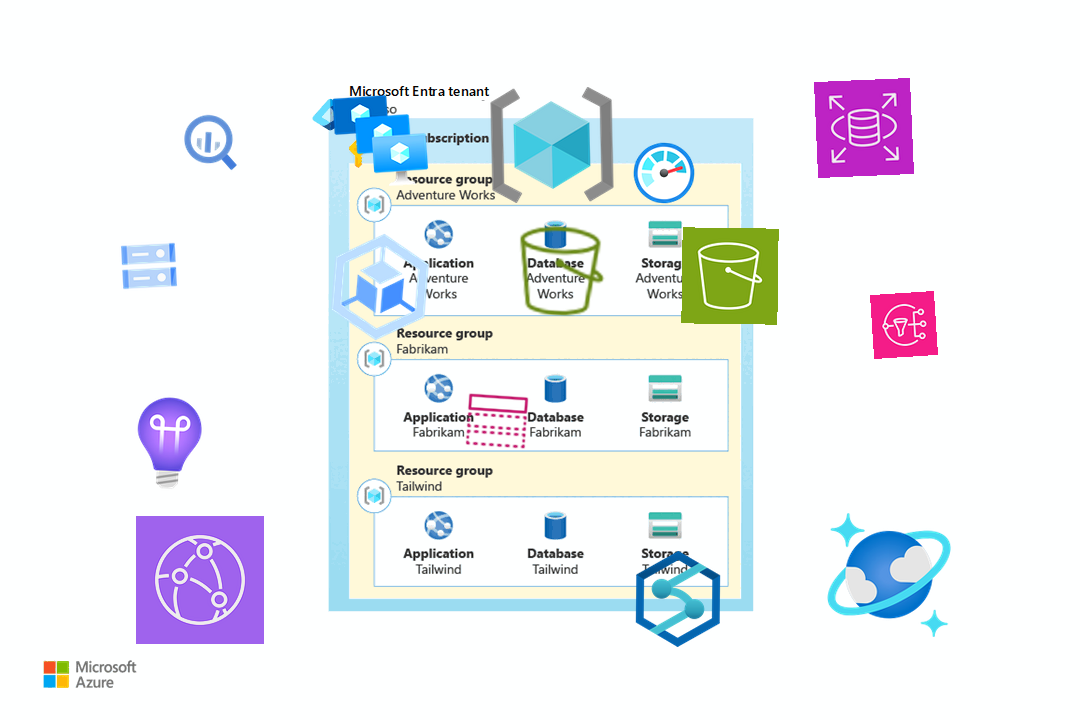aws_amazon_cloudfront: (135, 515, 265, 645)
aws_amazon_rds: (813, 77, 915, 179)
aws_amazon_simple_notification_service: (869, 290, 939, 360)
aws_amazon_simple_storage_service: (681, 227, 779, 325)
aws_simple_notification_service_topic: (462, 386, 532, 456)
aws_simple_storage_service_s3_standard: (510, 220, 612, 322)
azure_application_insights: (118, 392, 220, 494)
azure_cosmos_db: (822, 508, 956, 642)
azure_monitor: (629, 138, 699, 208)
azure_resource_groups: (486, 79, 618, 211)
azure_synapse_analytics: (629, 550, 727, 648)
azure_vm_scale_sets: (327, 87, 431, 191)
gcp_bigquery: (177, 108, 245, 176)
gcp_cloud_storage: (115, 232, 183, 300)
gcp_google_kubernetes_engine: (310, 217, 450, 357)
